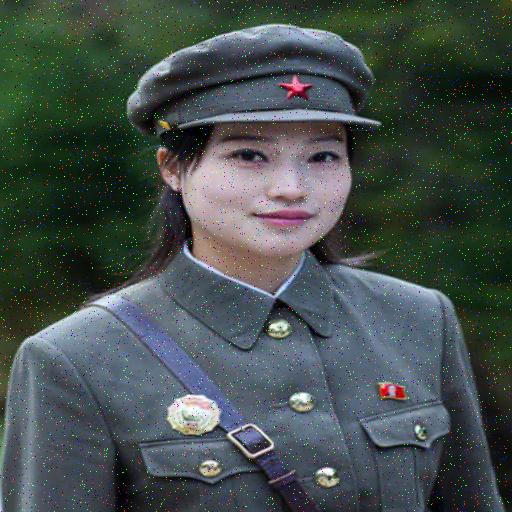north army: (60, 49, 512, 512)
